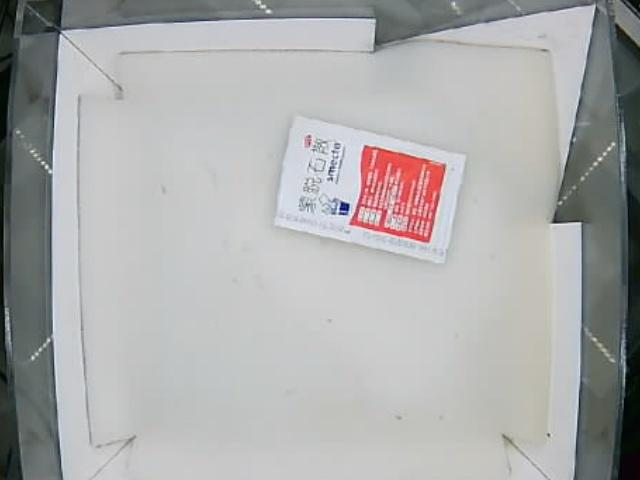Medicine: (275, 115, 469, 263)
